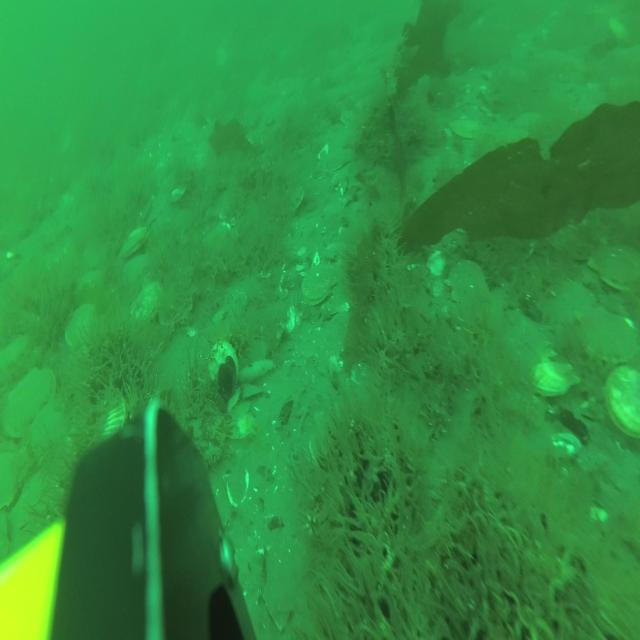scallop: (2, 362, 54, 438), (580, 302, 636, 362), (605, 366, 640, 446), (596, 242, 640, 292), (33, 402, 69, 463), (542, 278, 589, 324), (531, 361, 578, 403), (448, 257, 485, 306), (92, 388, 126, 440), (208, 341, 240, 391), (67, 302, 98, 352), (302, 264, 336, 309), (1, 449, 24, 509), (132, 283, 162, 325), (322, 144, 352, 176), (122, 229, 150, 261)
